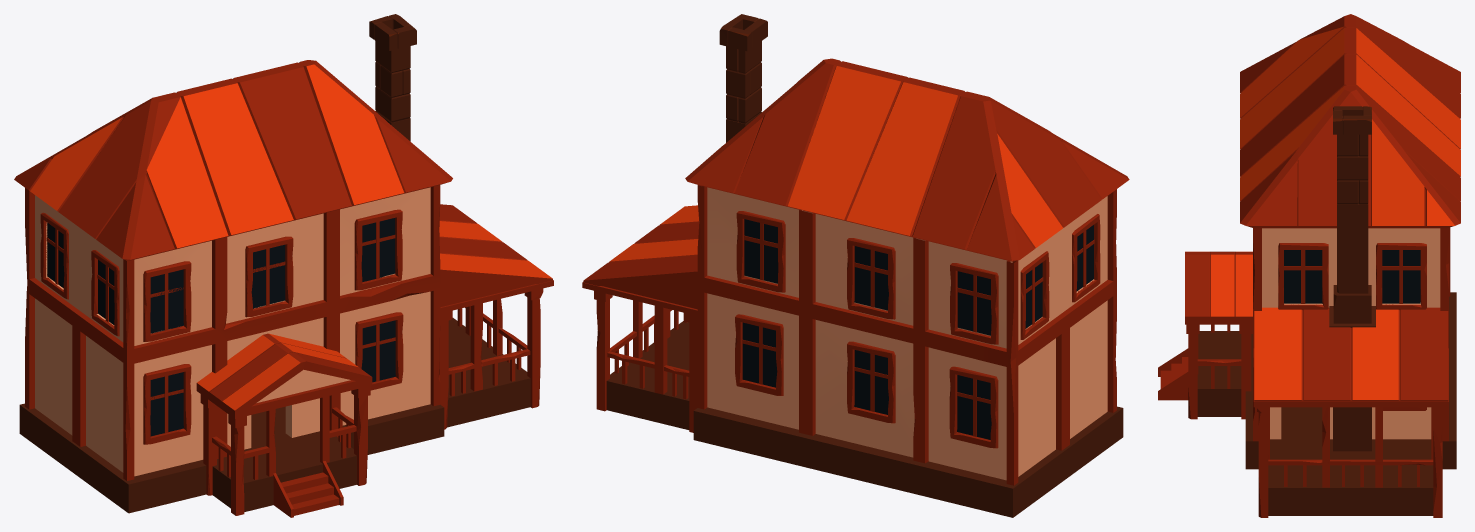
File: House_2.fbx
3 renders of one model, left to right at view 1: azimuth 30°, elevation 25°; view 2: azimuth 150°, elevation 25°; view 3: azimuth 270°, elevation 25°, orthographic. The views are drawn at different scales.
Parts seen in each view (by area): view 1: House_2; view 2: House_2; view 3: House_2.
Boxes of the visible parts, x1,y1,x2,y2 form: House_2: (14, 14, 553, 517); House_2: (582, 14, 1129, 517); House_2: (1158, 14, 1460, 517).
Size of the model in its own units: 326 by 265 by 203.
